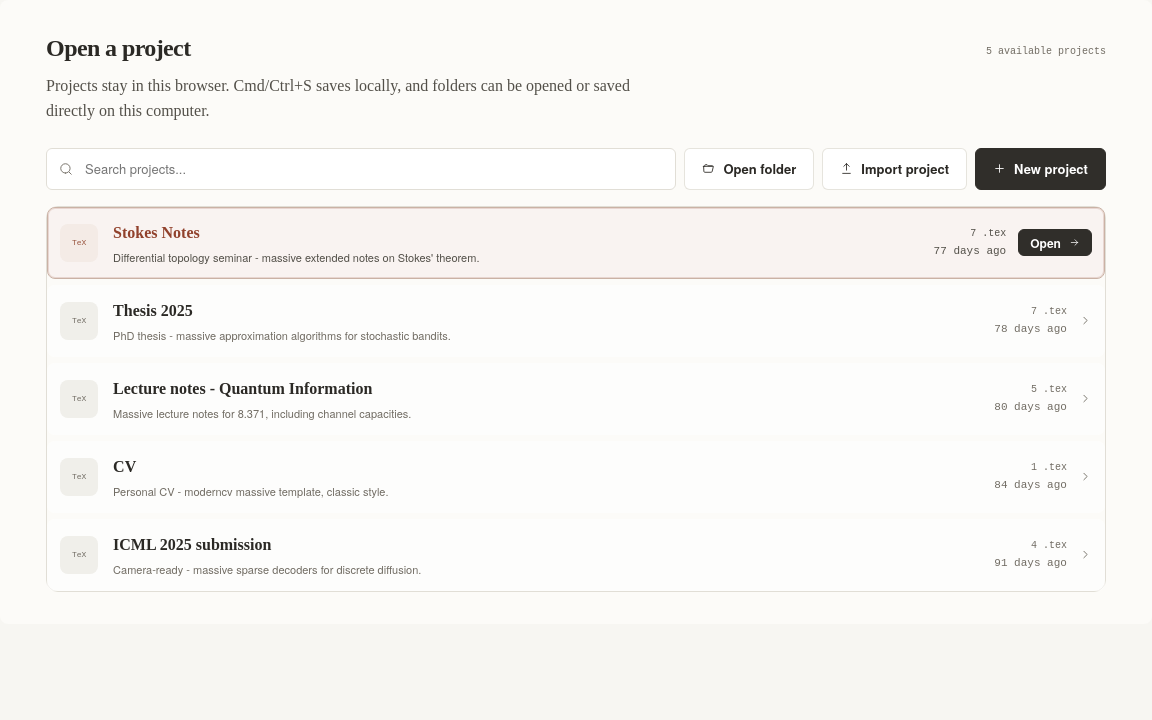
Scenario: <ProjectPicker /> › New project button reveals the inline form
Check: the text "Stokes Notes" is shown, box [113,221,200,245]
Click the button "New project".
click(1040, 169)  # box [975,148,1106,190]
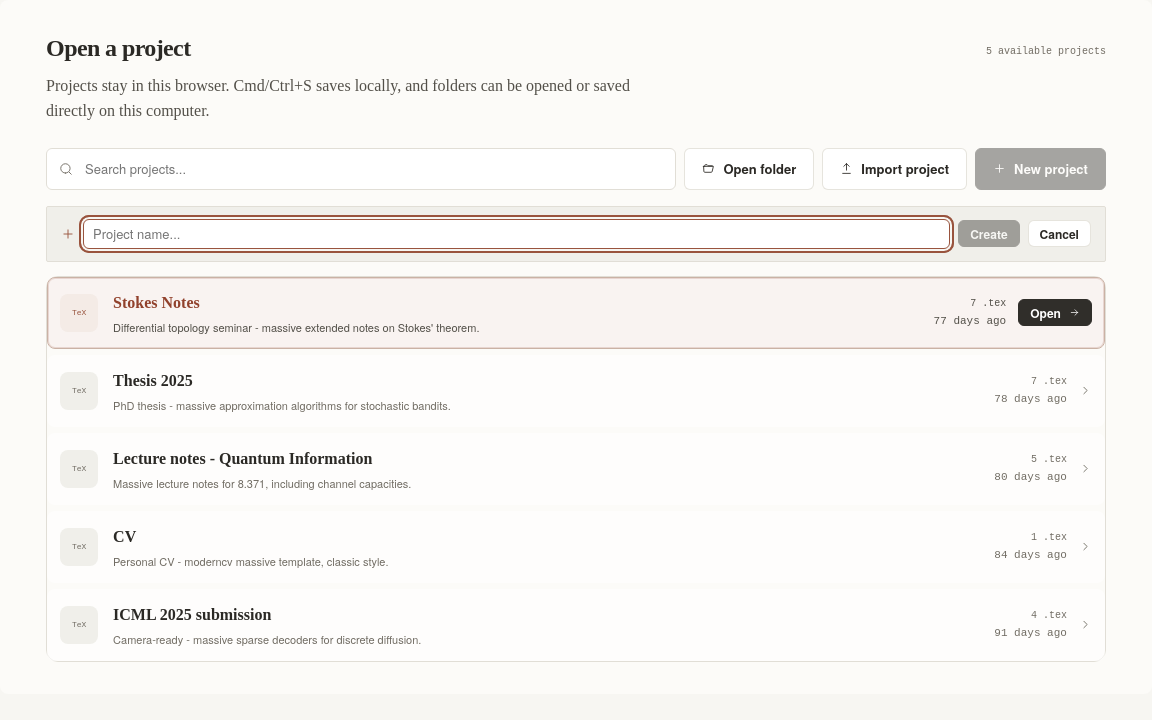
Check: the field labelled "Project name..." is shown, box [83,219,950,249]
